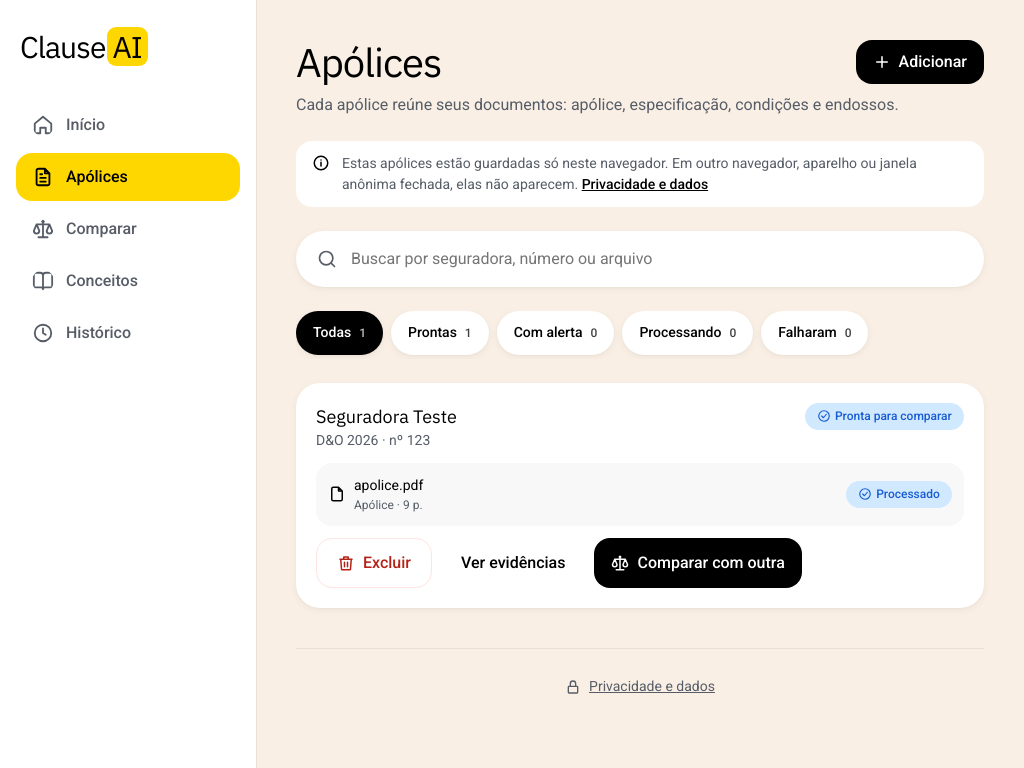
policy deletion › asks for confirmation before deleting and shows the result
Click the button with aria-label "Excluir apólice Seguradora Teste" at point(374, 563), box [316,538,432,588]
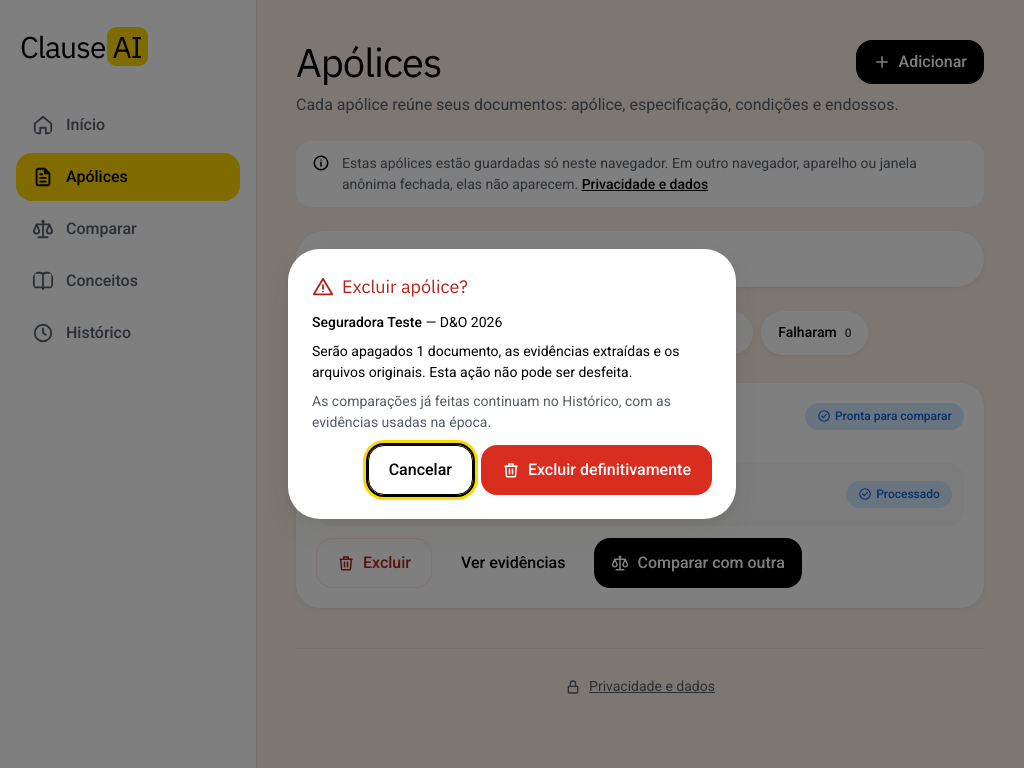
Expected: the text "Esta ação não pode ser desfeita" is shown, [312,343,680,380]
Click the button "Cancelar" at point(420, 470), box [368,445,473,495]
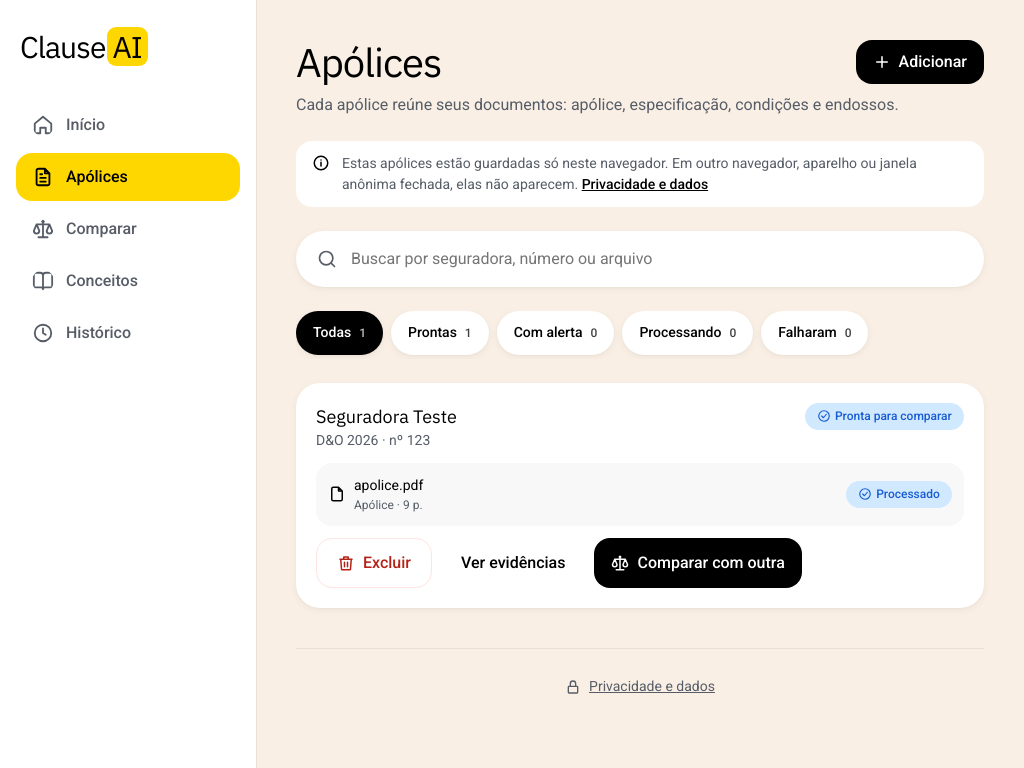
Expected: the dialog is gone
Click the button with aria-label "Excluir apólice Seguradora Teste" at point(374, 563), box [316,538,432,588]
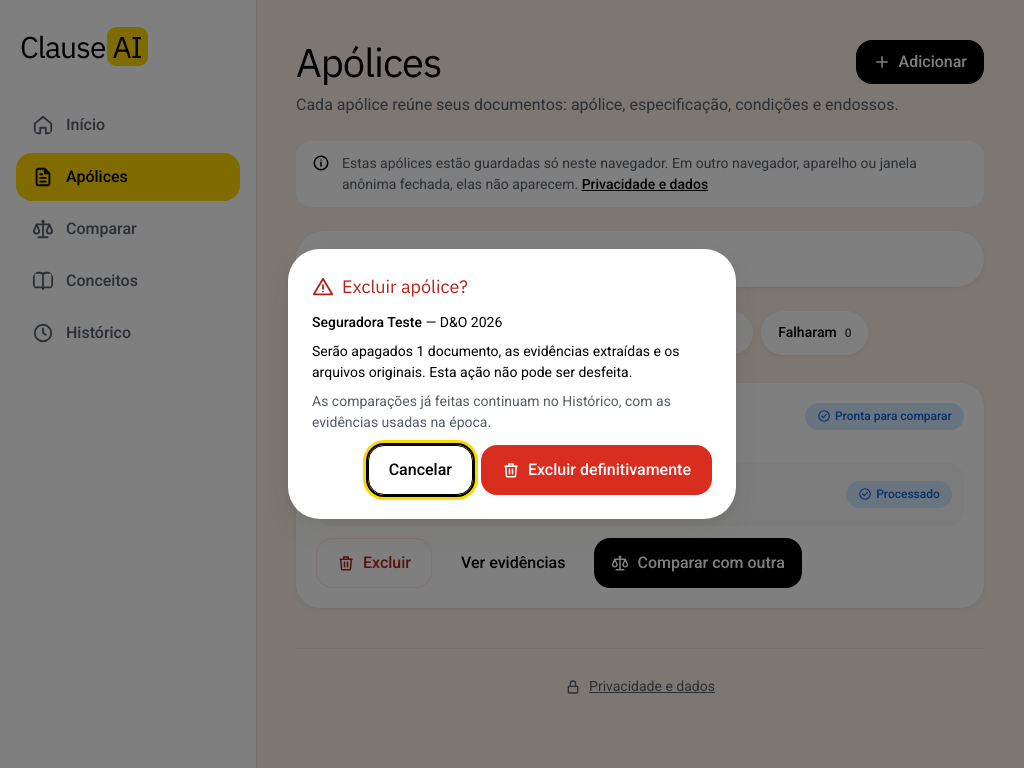
Click the button "Excluir definitivamente" at point(596, 470), box [481,445,712,495]
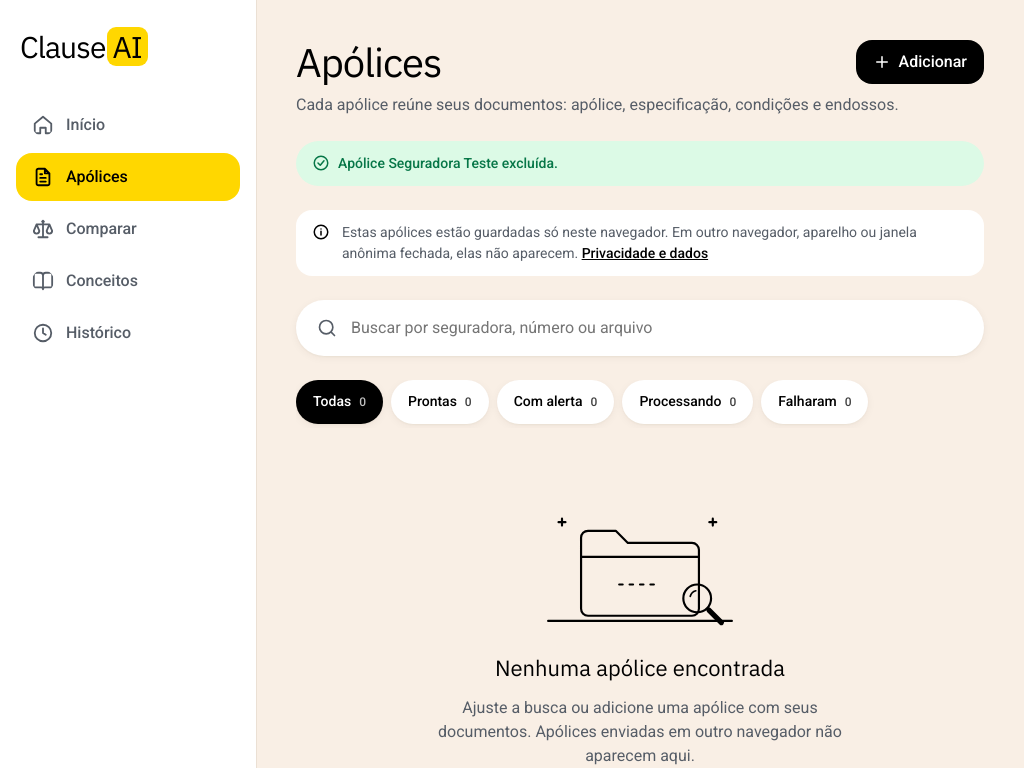
Expected: the text "Apólice Seguradora Teste excluída." is shown, [296,141,984,186]
Expected: the text "Nenhuma apólice encontrada" is shown, [495,651,785,684]
